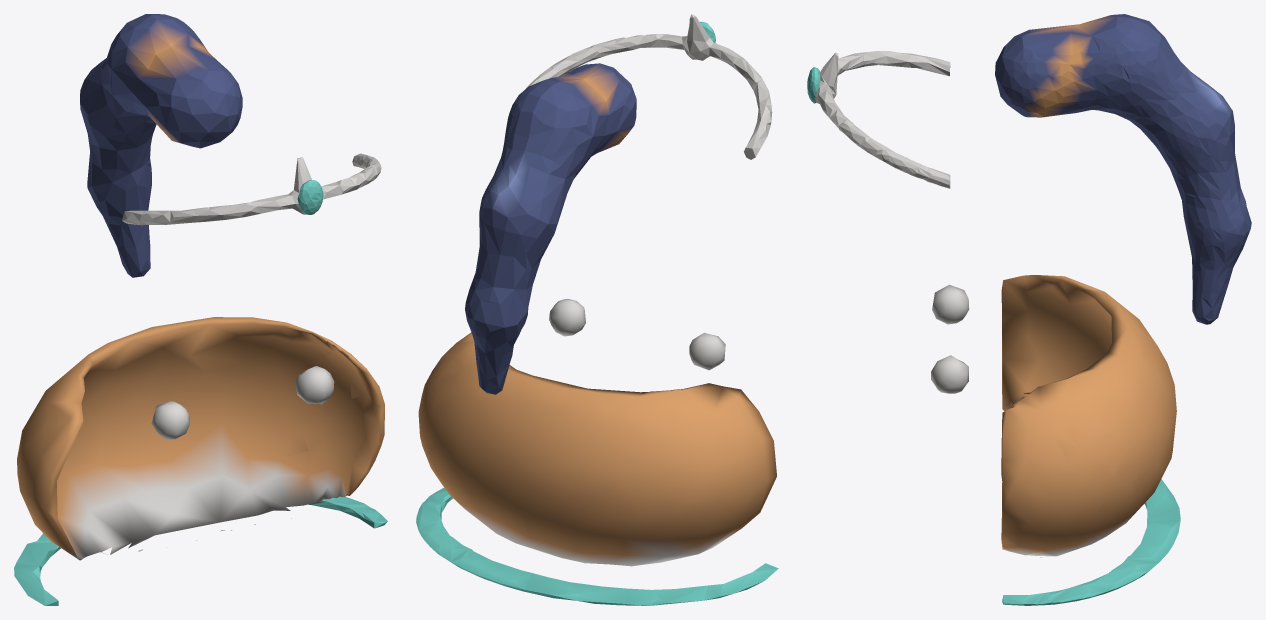
Rendered from tenue_aurore.glb.
3 renders of one model, left to right at view 1: azimuth 30°, elevation 25°; view 2: azimuth 150°, elevation 25°; view 3: azimuth 270°, elevation 25°, orthographic. The views are drawn at different scales.
Parts seen in each view (by area): view 1: torso__dos, head__coiffe_hair, head__coiffe, torso__dos_glow, head__coiffe_glow; view 2: torso__dos, head__coiffe_hair, torso__dos_glow, head__coiffe; view 3: torso__dos, head__coiffe_hair, torso__dos_glow, head__coiffe.
Boxes of the visible parts, x1=… form: torso__dos: x1=17, y1=317, x2=384, y2=560; head__coiffe_hair: x1=80, y1=14, x2=242, y2=277; head__coiffe: x1=122, y1=153, x2=381, y2=225; torso__dos_glow: x1=14, y1=496, x2=387, y2=605; head__coiffe_glow: x1=297, y1=180, x2=323, y2=214; torso__dos: x1=418, y1=299, x2=776, y2=566; head__coiffe_hair: x1=465, y1=63, x2=636, y2=394; torso__dos_glow: x1=416, y1=487, x2=778, y2=605; head__coiffe: x1=525, y1=14, x2=772, y2=159; torso__dos: x1=931, y1=275, x2=1176, y2=557; head__coiffe_hair: x1=995, y1=14, x2=1251, y2=324; torso__dos_glow: x1=1002, y1=479, x2=1180, y2=605; head__coiffe: x1=815, y1=51, x2=950, y2=188.
Bounding box in the file's own units: 0.6259 × 0.8762 × 0.6956.
